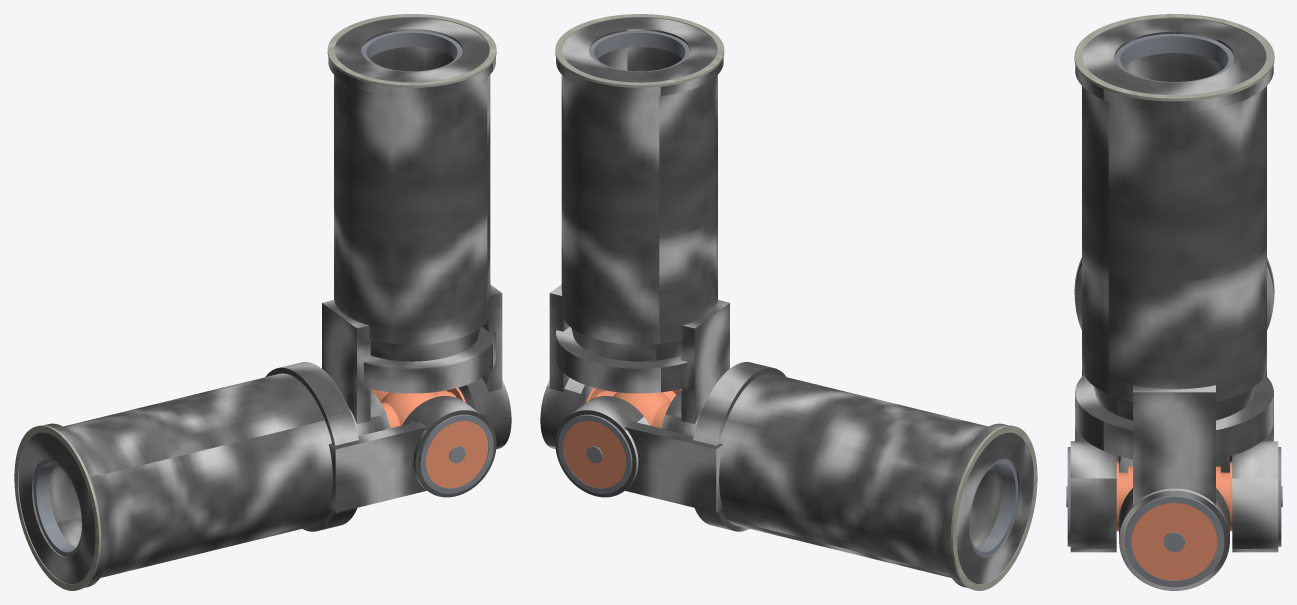
Rendered from universal_joint__0000.glb.
3 views of the same model, side by side, from view 1: azimuth 30°, elevation 25°; view 2: azimuth 150°, elevation 25°; view 3: azimuth 270°, elevation 25° (orthographic). The views are drawn at different scales.
Visible parts, largest first — view 1: shaft_yoke_b::shaft_yoke, shaft_yoke_a::shaft_yoke, shaft_yoke_a::cap_neg, shaft_yoke_a::mouth_edge, shaft_yoke_b::mouth_edge, shaft_yoke_a::bore_liner, shaft_yoke_b::bore_liner, shaft_yoke_a::retaining_ring_neg, spider::spider_center; view 2: shaft_yoke_b::shaft_yoke, shaft_yoke_a::shaft_yoke, shaft_yoke_a::cap_pos, shaft_yoke_a::mouth_edge, shaft_yoke_b::mouth_edge, shaft_yoke_a::bore_liner, shaft_yoke_b::bore_liner, shaft_yoke_a::retaining_ring_pos, spider::spider_center; view 3: shaft_yoke_b::shaft_yoke, shaft_yoke_a::shaft_yoke, shaft_yoke_b::cap_pos, shaft_yoke_b::mouth_edge, shaft_yoke_b::bore_liner, shaft_yoke_b::retaining_ring_pos, spider::journal_y, shaft_yoke_a::retaining_ring_neg, shaft_yoke_a::retaining_ring_pos, shaft_yoke_b::cap_dimple_pos.
Boxes of the visible parts, left/top/right/bottom form: shaft_yoke_b::shaft_yoke: left=322, top=17, right=511, bottom=449; shaft_yoke_a::shaft_yoke: left=18, top=362, right=496, bottom=587; shaft_yoke_a::cap_neg: left=426, top=421, right=488, bottom=488; shaft_yoke_a::mouth_edge: left=14, top=425, right=101, bottom=590; shaft_yoke_b::mouth_edge: left=327, top=14, right=496, bottom=87; shaft_yoke_a::bore_liner: left=33, top=458, right=82, bottom=557; shaft_yoke_b::bore_liner: left=361, top=30, right=462, bottom=71; shaft_yoke_a::retaining_ring_neg: left=419, top=414, right=493, bottom=493; spider::spider_center: left=381, top=392, right=438, bottom=425; shaft_yoke_b::shaft_yoke: left=540, top=17, right=729, bottom=449; shaft_yoke_a::shaft_yoke: left=555, top=362, right=1033, bottom=587; shaft_yoke_a::cap_pos: left=563, top=421, right=625, bottom=488; shaft_yoke_a::mouth_edge: left=950, top=425, right=1037, bottom=590; shaft_yoke_b::mouth_edge: left=555, top=14, right=724, bottom=87; shaft_yoke_a::bore_liner: left=969, top=458, right=1018, bottom=557; shaft_yoke_b::bore_liner: left=589, top=30, right=690, bottom=71; shaft_yoke_a::retaining_ring_pos: left=558, top=414, right=632, bottom=493; spider::spider_center: left=613, top=392, right=670, bottom=425; shaft_yoke_b::shaft_yoke: left=1075, top=18, right=1273, bottom=590; shaft_yoke_a::shaft_yoke: left=1070, top=260, right=1278, bottom=552; shaft_yoke_b::cap_pos: left=1131, top=503, right=1217, bottom=580; shaft_yoke_b::mouth_edge: left=1074, top=14, right=1274, bottom=101; shaft_yoke_b::bore_liner: left=1114, top=33, right=1234, bottom=82; shaft_yoke_b::retaining_ring_pos: left=1124, top=495, right=1224, bottom=587; spider::journal_y: left=1119, top=466, right=1229, bottom=517; shaft_yoke_a::retaining_ring_neg: left=1067, top=447, right=1070, bottom=546; shaft_yoke_a::retaining_ring_pos: left=1278, top=447, right=1281, bottom=546; shaft_yoke_b::cap_dimple_pos: left=1164, top=532, right=1184, bottom=551.
Bounding box in the file's own units: 0.1286 × 0.1268 × 0.0468.
4 materials, 4 textured.
